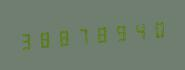eight: (36, 24, 54, 53), (93, 19, 111, 48), (55, 23, 73, 51)
four: (131, 16, 149, 44)
nine: (112, 18, 130, 46)
seven: (74, 21, 92, 49)
three: (17, 26, 35, 54)
zero: (150, 14, 168, 43)
